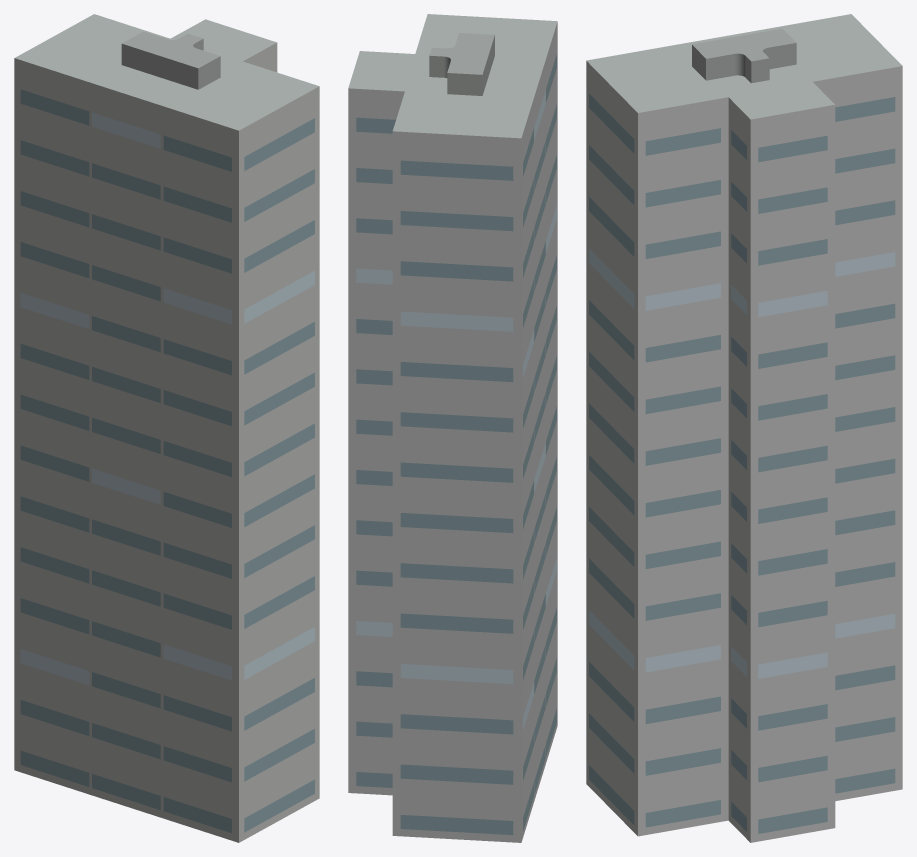
File: fallback-shinbanpo-xi-104.glb
3 views of the same model, side by side, from view 1: azimuth 30°, elevation 25°; view 2: azimuth 150°, elevation 25°; view 3: azimuth 270°, elevation 25° (orthographic). The views are drawn at different scales.
Visible parts, largest first — view 1: fallback-shinbanpo-xi-104; view 2: fallback-shinbanpo-xi-104; view 3: fallback-shinbanpo-xi-104.
Boxes of the visible parts, x1=… form: fallback-shinbanpo-xi-104: x1=14, y1=14, x2=319, y2=842; fallback-shinbanpo-xi-104: x1=348, y1=14, x2=557, y2=842; fallback-shinbanpo-xi-104: x1=586, y1=14, x2=902, y2=842.
Size of the model in its own units: 24.92 by 82 by 31.56.
